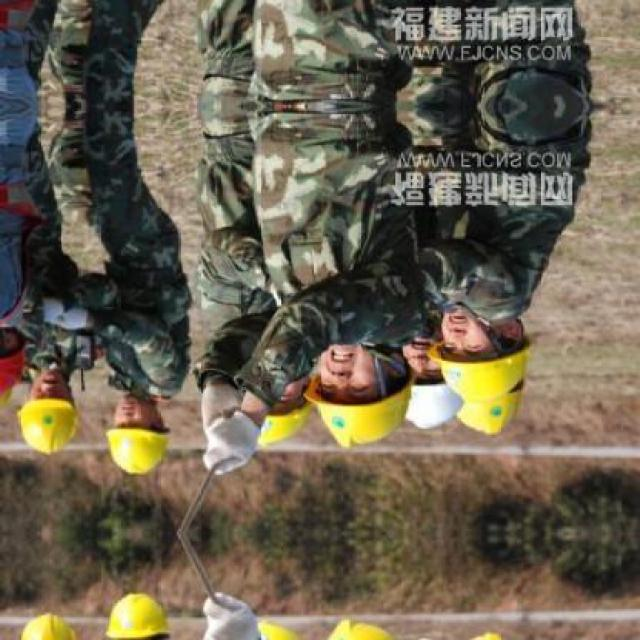safetyhelmet: (305, 371, 413, 446), (428, 342, 529, 401), (17, 397, 78, 452), (457, 384, 523, 433), (107, 592, 169, 639), (107, 427, 169, 472), (407, 380, 463, 427), (259, 399, 312, 444), (22, 613, 76, 639), (330, 619, 395, 639), (0, 340, 24, 392), (259, 619, 300, 639), (0, 388, 12, 406), (471, 632, 501, 639)
